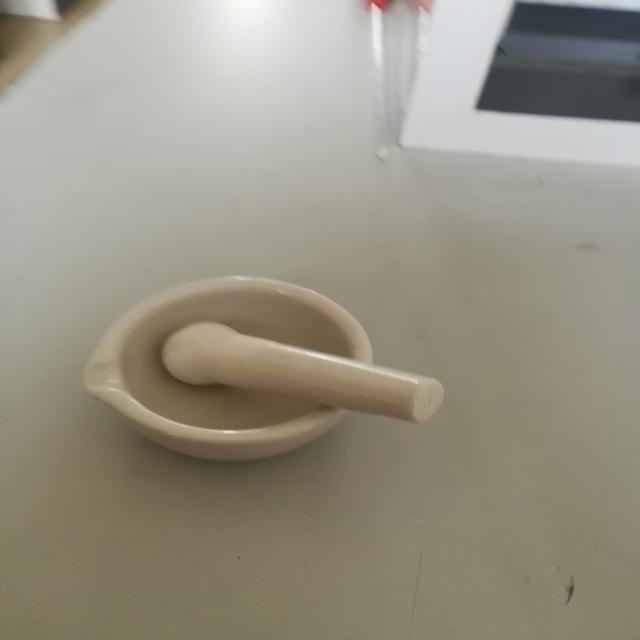Porcelain_Mortar Pestle: (61, 244, 473, 508)
